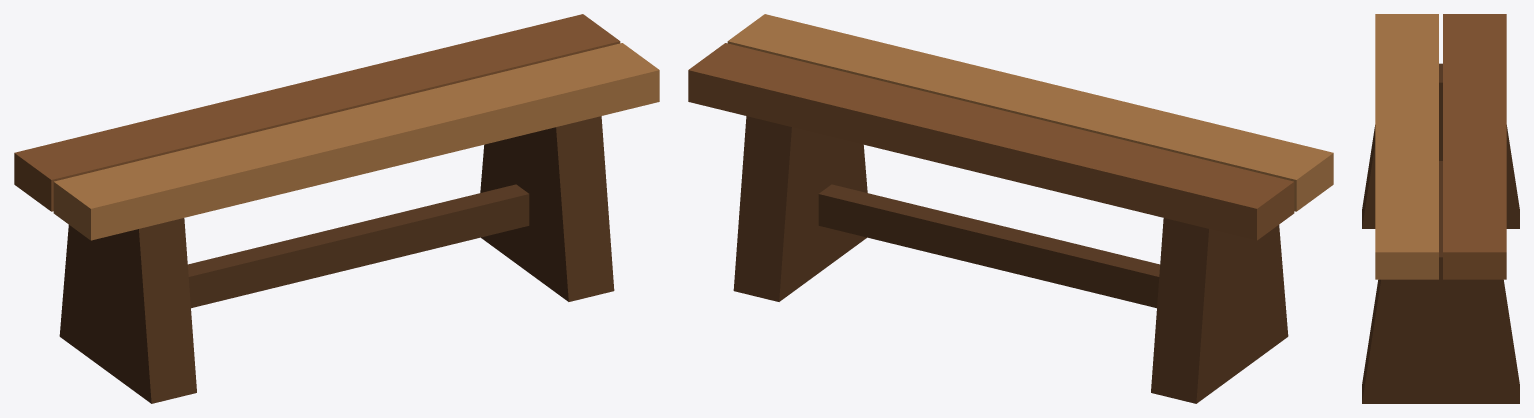
File: Bench.fbx
3 views of the same model, side by side, from view 1: azimuth 30°, elevation 25°; view 2: azimuth 150°, elevation 25°; view 3: azimuth 270°, elevation 25° (orthographic). The views are drawn at different scales.
Visible parts, largest first — view 1: Bench; view 2: Bench; view 3: Bench.
Boxes of the visible parts, left/top/right/bottom form: Bench: left=14, top=14, right=659, bottom=403; Bench: left=688, top=14, right=1333, bottom=403; Bench: left=1362, top=14, right=1519, bottom=403.
Size of the model in its own units: 1.5 by 0.51 by 0.42.
